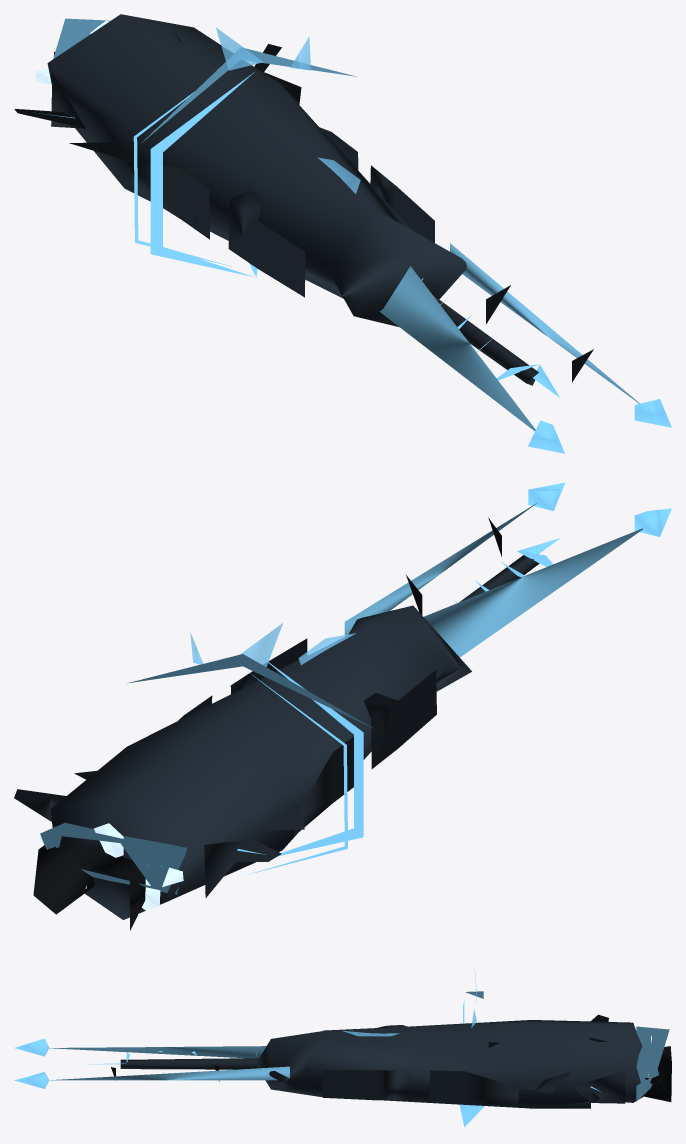
File: kamerton-rezonanci-hawk-61-lod2.glb
3 renders of one model, top to bottom at view 1: azimuth 30°, elevation 25°; view 2: azimuth 150°, elevation 25°; view 3: azimuth 270°, elevation 25°, orthographic. The views are drawn at different scales.
Bounding box in the file's own units: 9.78 × 9.03 × 33.79.
